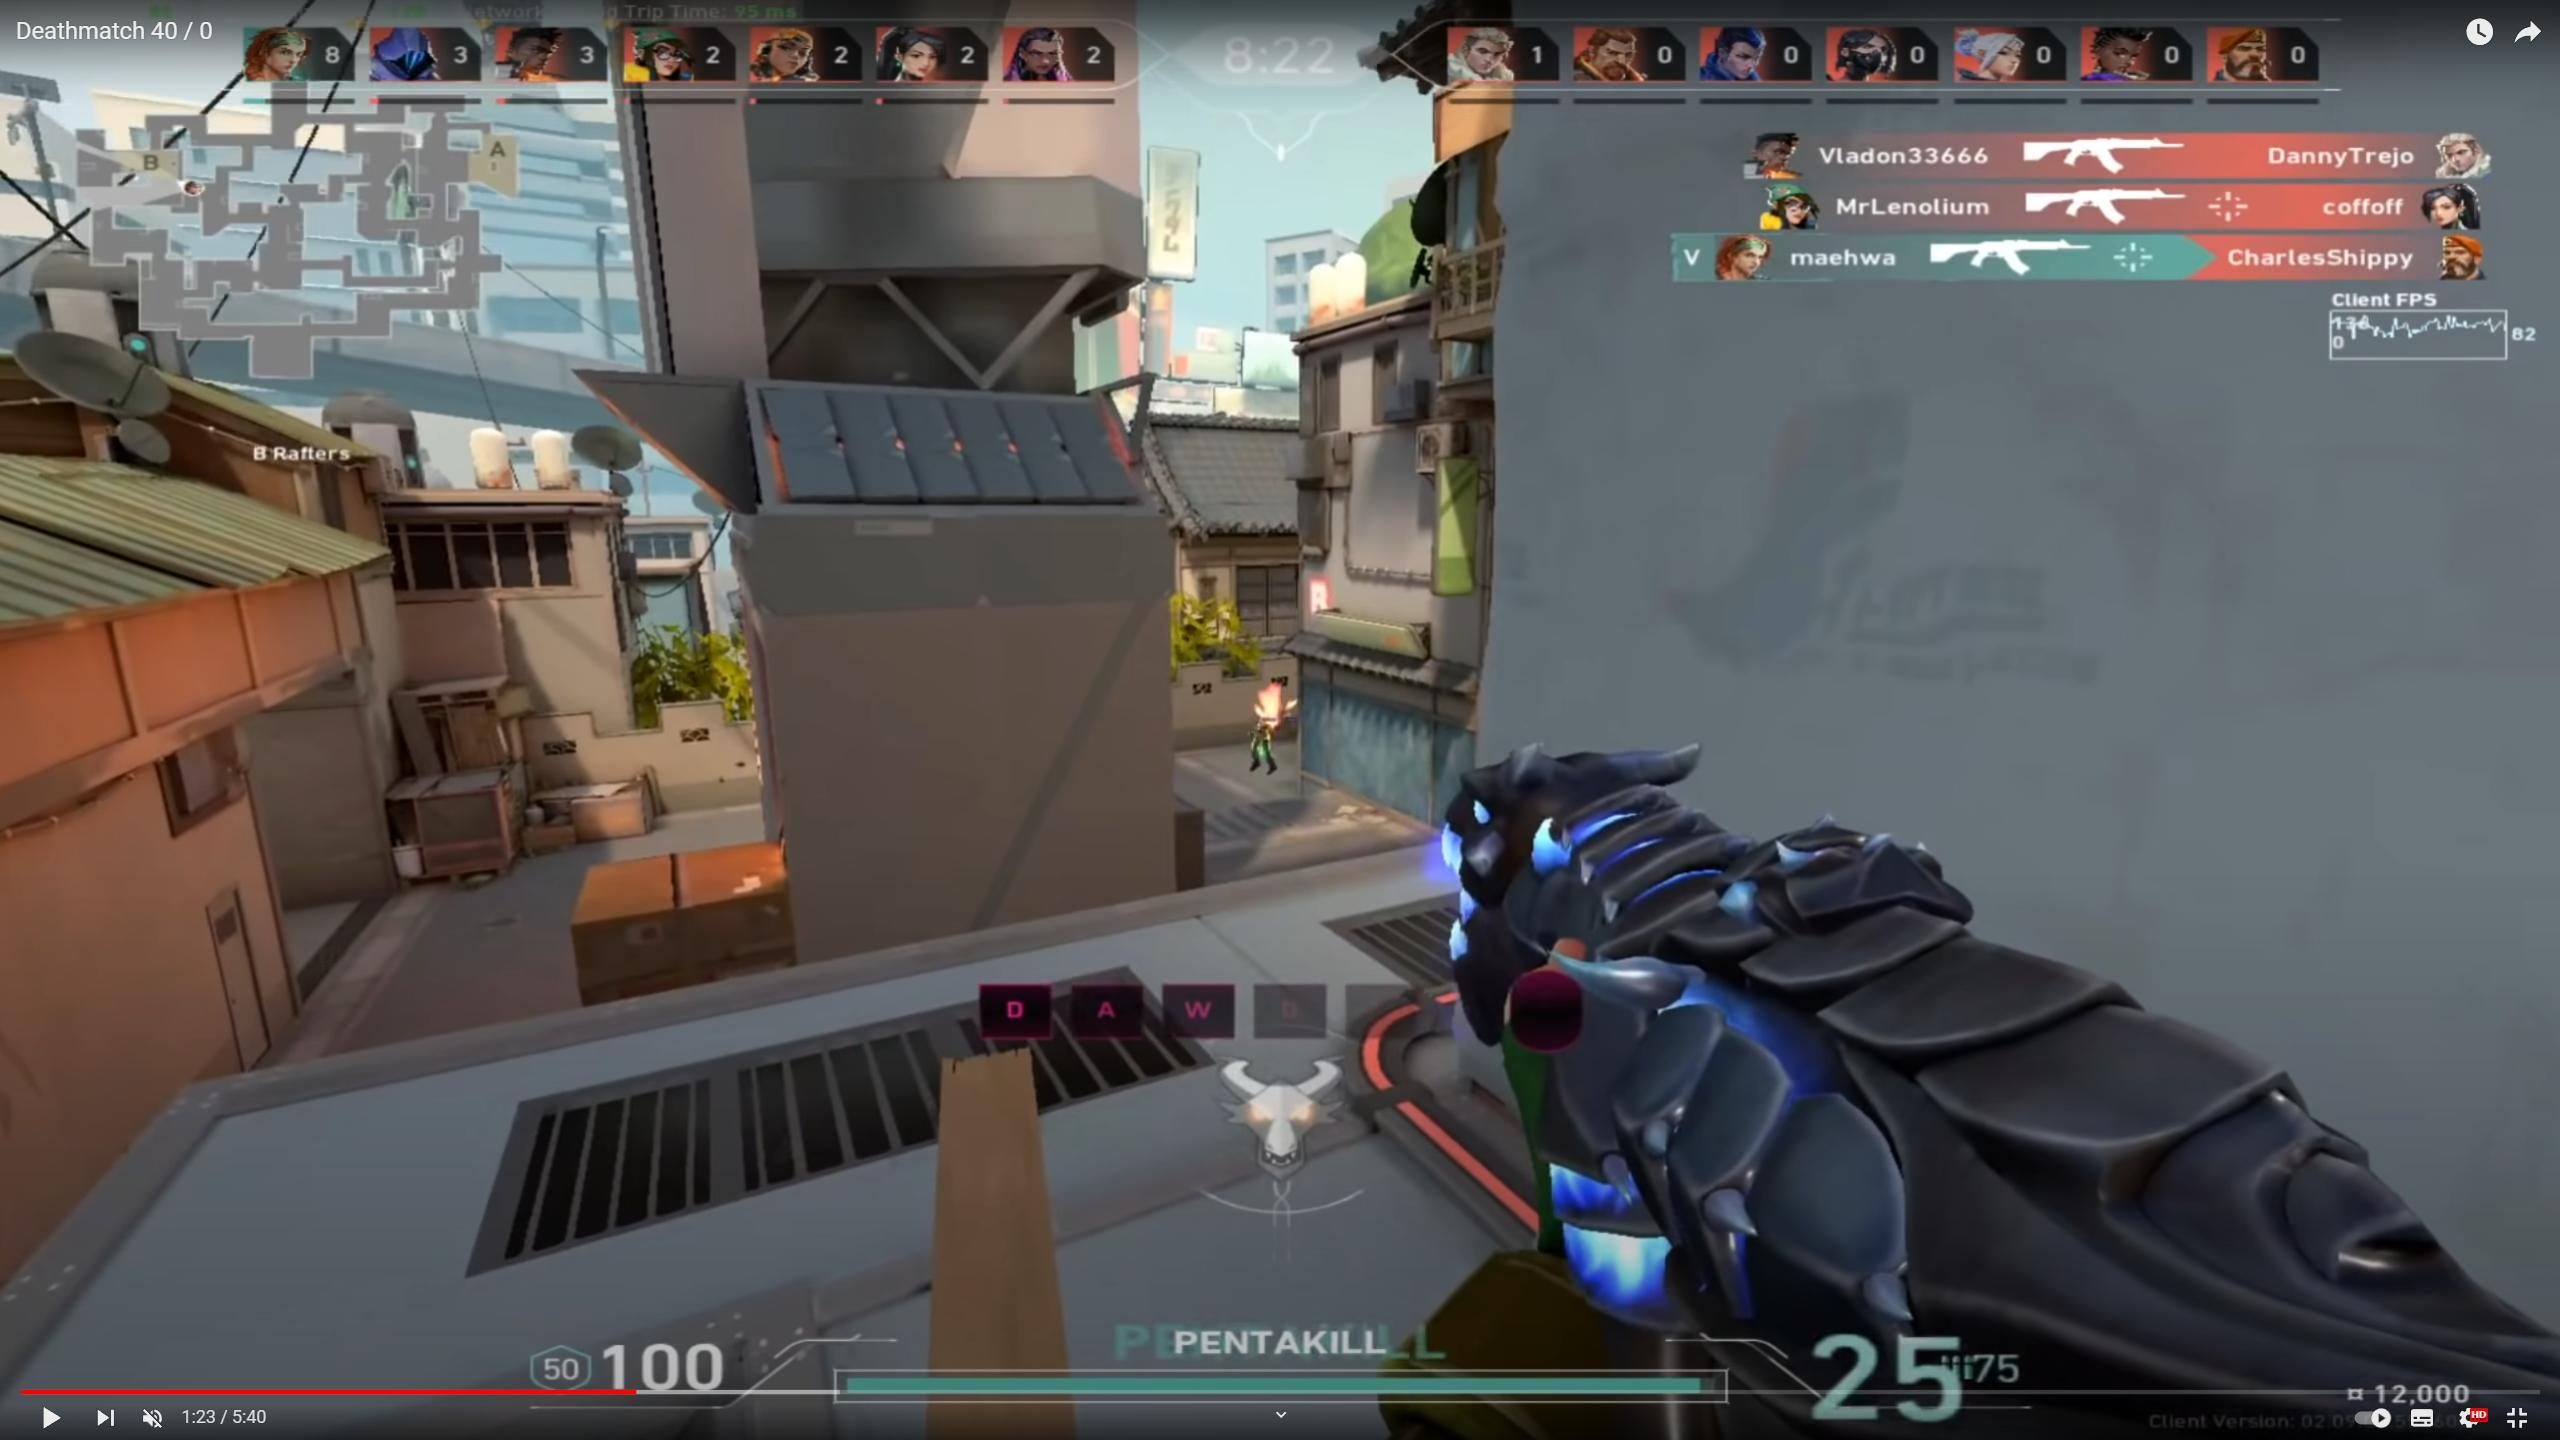enemyHead: (1262, 680, 1278, 724)
